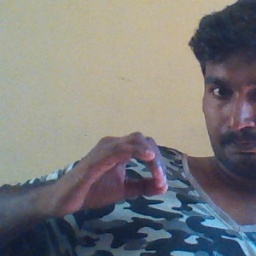O: (54, 130, 171, 218)
